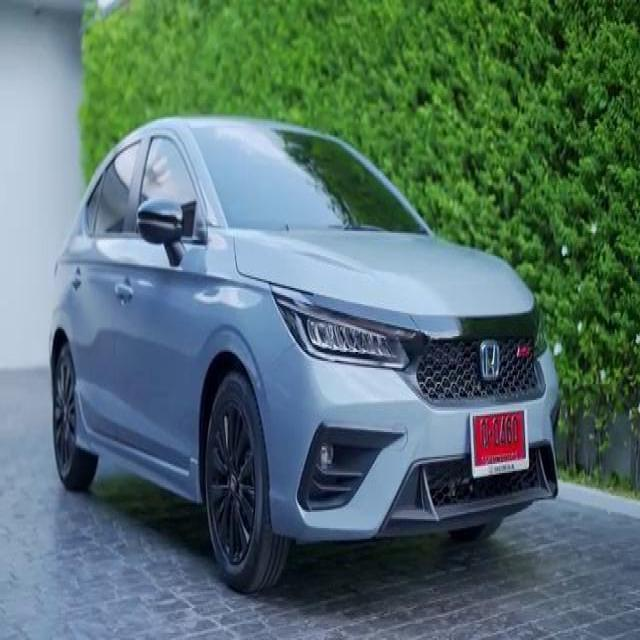Hatchback: (50, 117, 557, 590)
